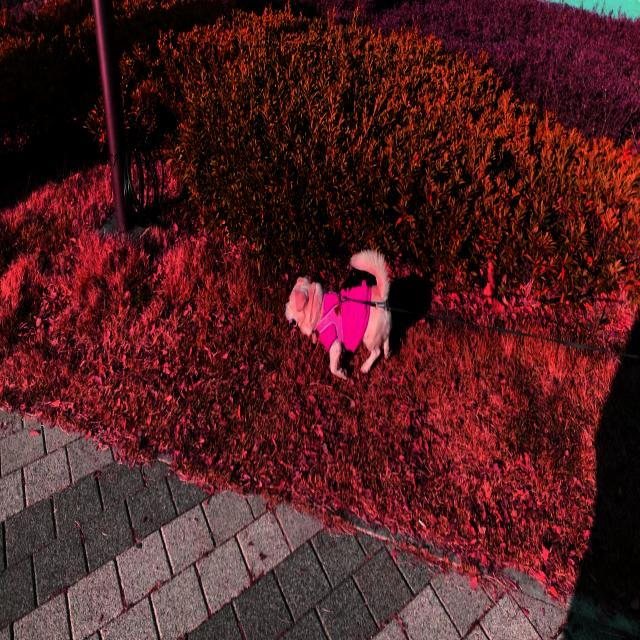Dog: (283, 247, 395, 383)
